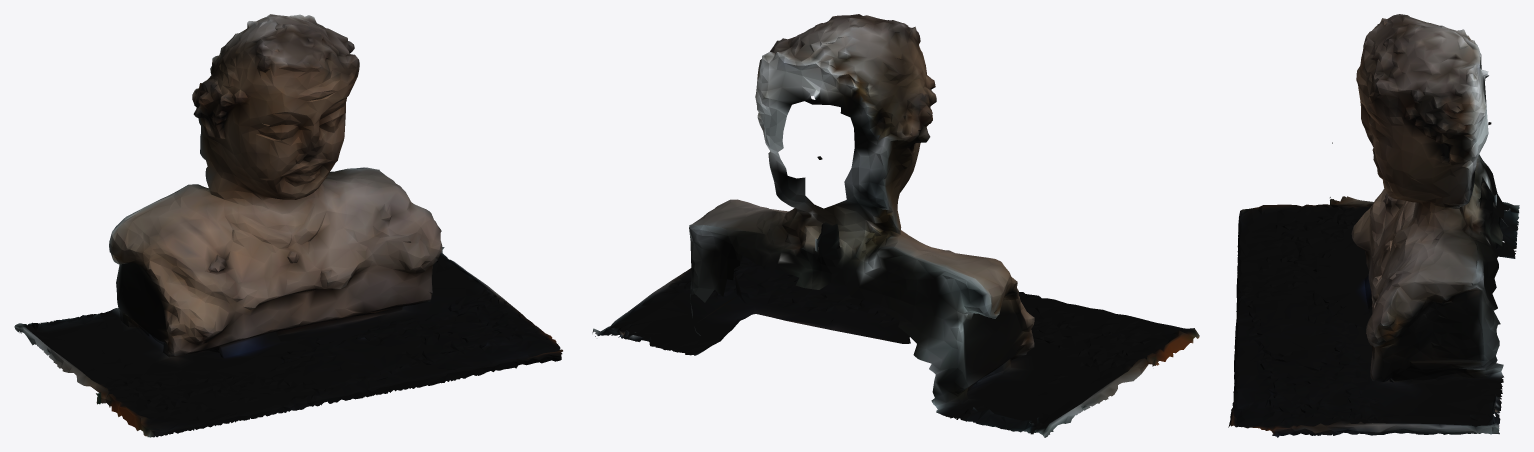
The model's file is BUDDA_HAPPY.glb.
3 renders of one model, left to right at view 1: azimuth 30°, elevation 25°; view 2: azimuth 150°, elevation 25°; view 3: azimuth 270°, elevation 25°, orthographic. The views are drawn at different scales.
Bounding box in the file's own units: 1.17 × 0.8152 × 0.6801.
Materials: 1 (1 with a texture image).
